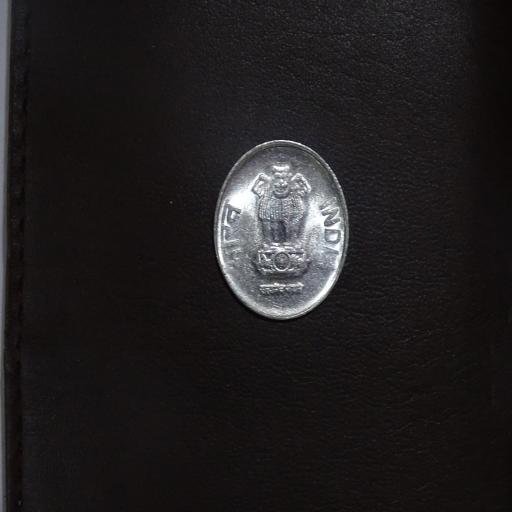rupee1: (212, 139, 349, 318)
